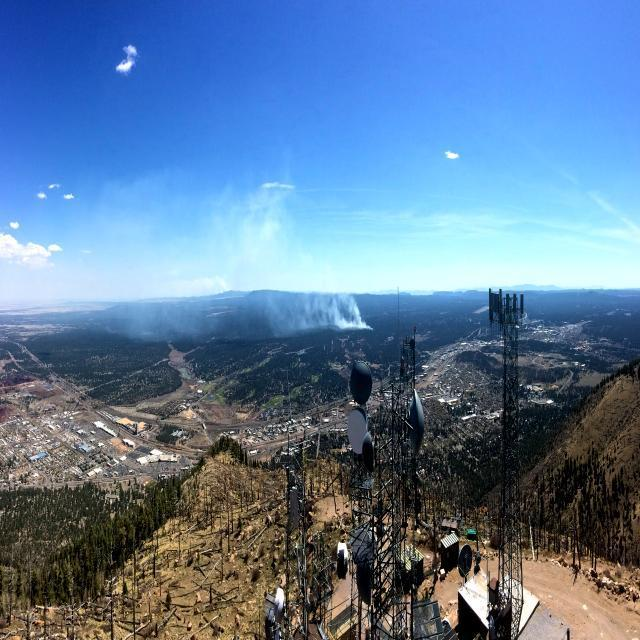Smoke: (284, 272, 374, 334)
